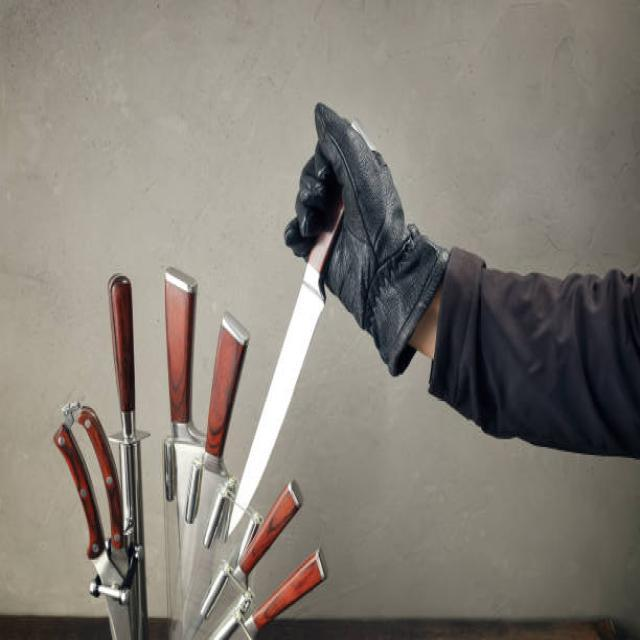faca: (223, 91, 443, 554)
